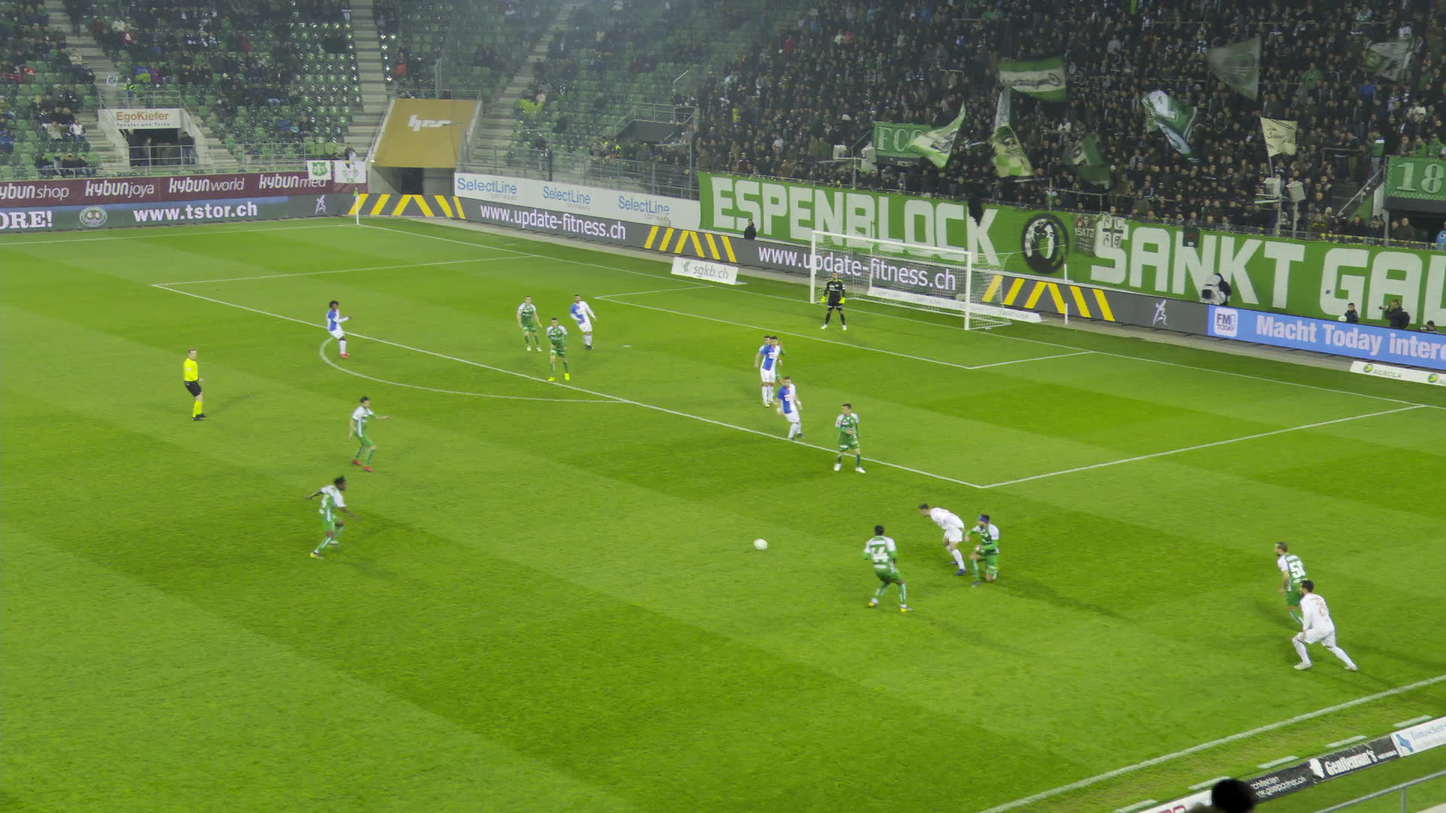ball: (759, 536, 776, 550)
player: (1284, 579, 1363, 677), (859, 522, 911, 611), (305, 469, 352, 559), (1271, 539, 1310, 636), (917, 500, 966, 573), (959, 512, 1006, 587), (344, 395, 385, 471), (832, 401, 864, 474), (752, 333, 782, 405), (773, 376, 802, 441), (758, 334, 786, 400), (324, 299, 350, 359), (545, 316, 569, 381), (515, 294, 541, 352), (567, 293, 593, 350), (822, 271, 847, 330)
referee: (181, 347, 206, 421)
